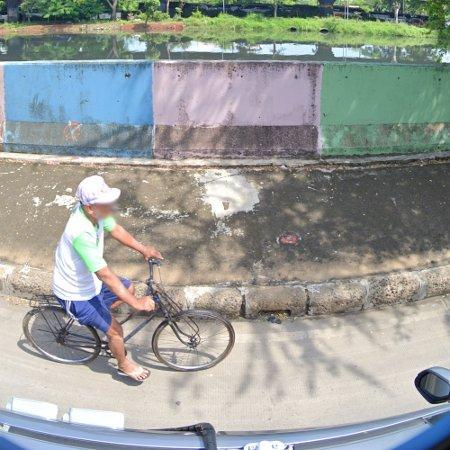bicycles: (25, 306, 108, 364)
